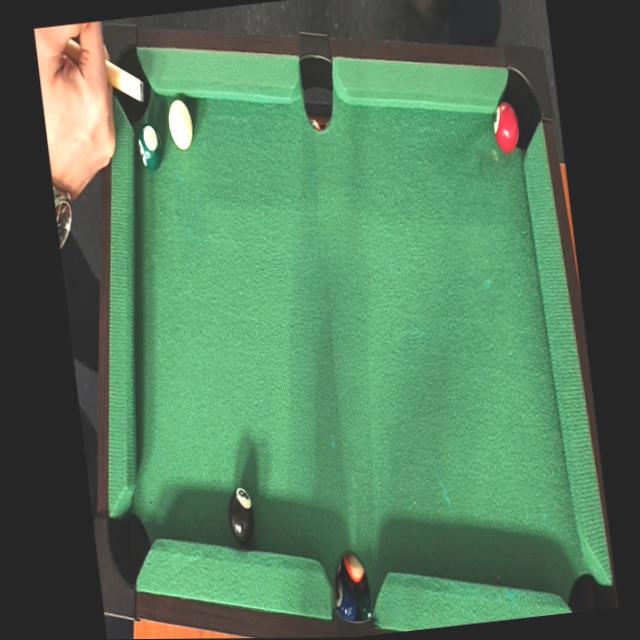cue ball: (162, 94, 198, 165)
other: (220, 472, 260, 561), (487, 95, 524, 161), (133, 120, 165, 180)
